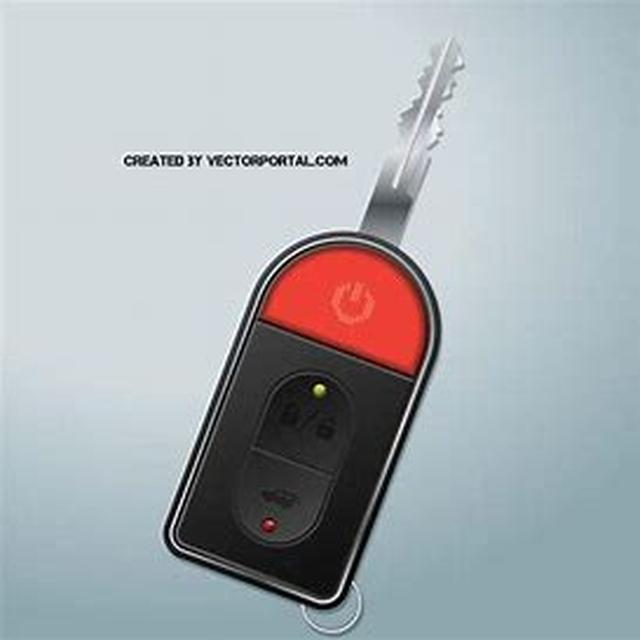key: (168, 0, 468, 630)
